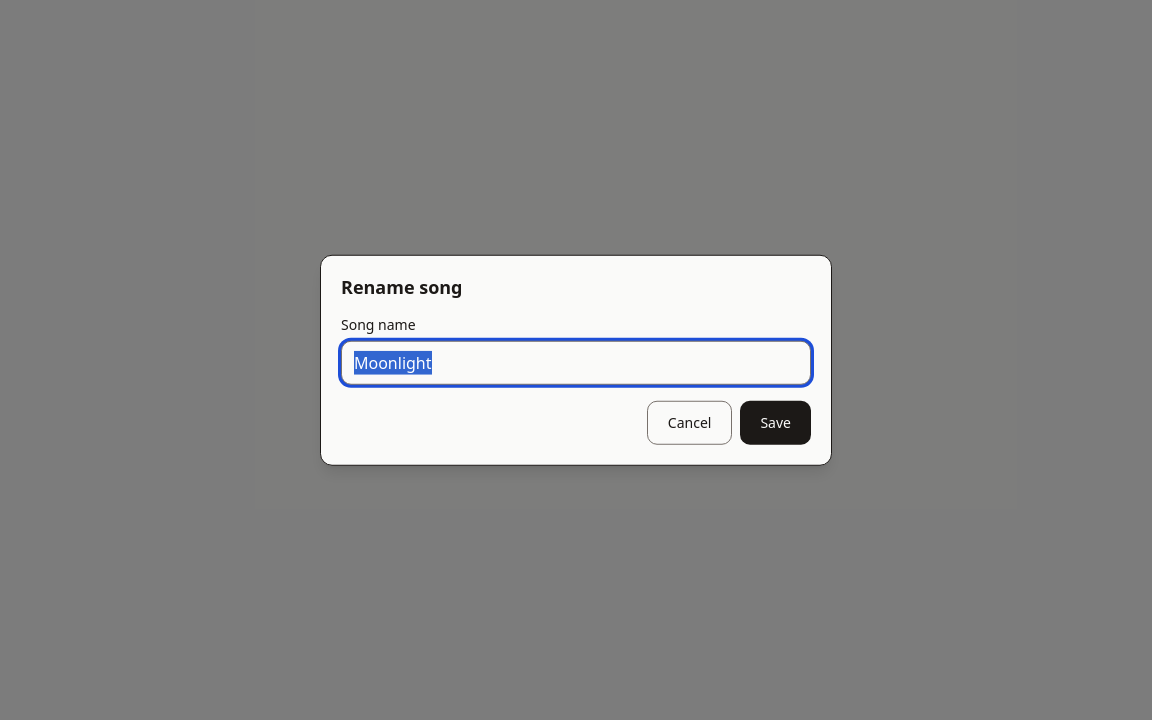
Test: cannot save an empty or blank name
Later steps or results of the test are not shown.
Clear the field labelled "Song name" at (576, 362), box left=341, top=340, right=811, bottom=384
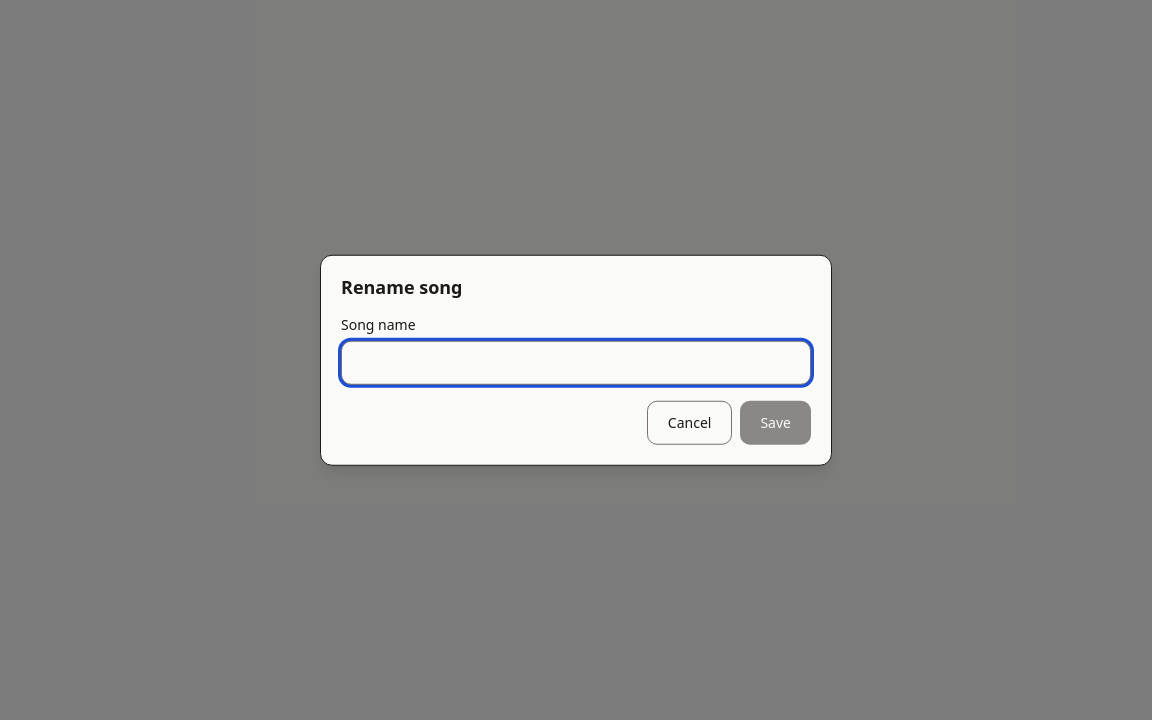
Expected: the button "Save" is disabled, left=740, top=400, right=811, bottom=444
